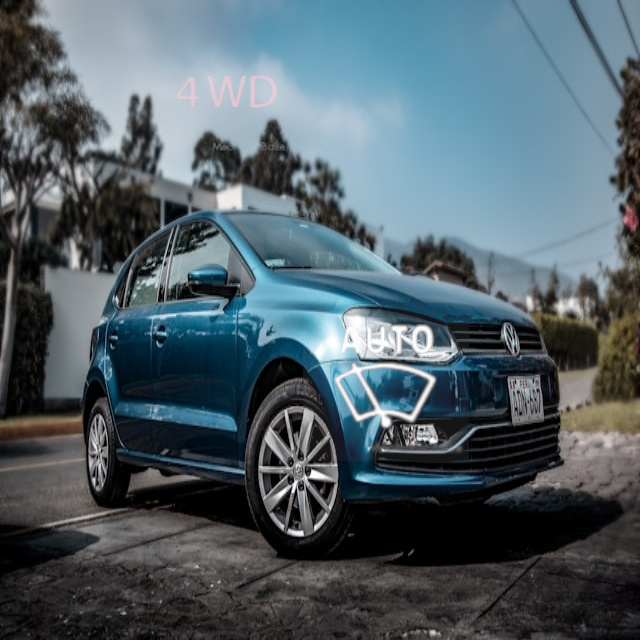symbol: (303, 295, 469, 461), (162, 29, 290, 157)
